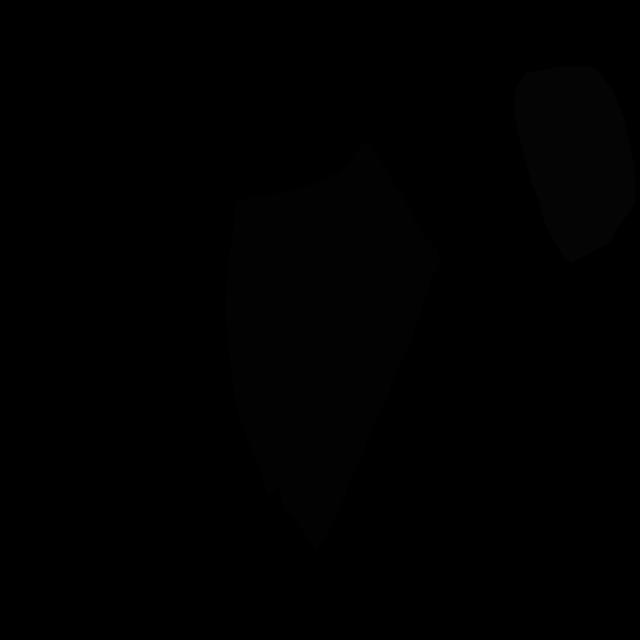cardboard: (225, 140, 442, 551)
soft_plastic: (514, 66, 636, 263)
